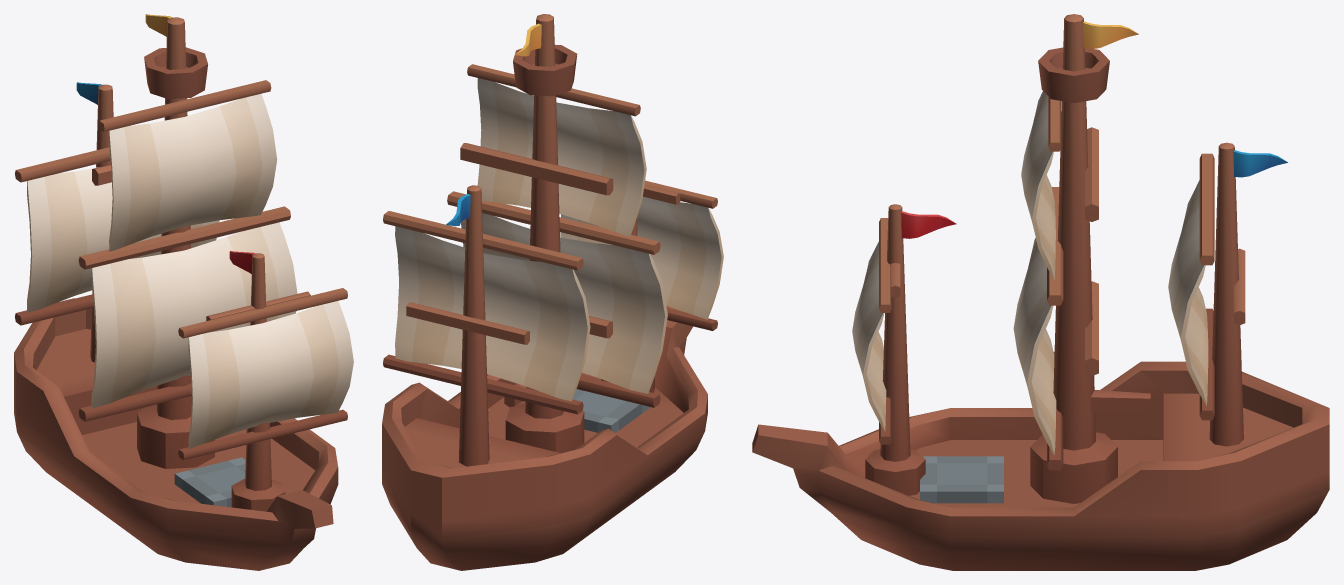
Rendered from ship.glb.
3 renders of one model, left to right at view 1: azimuth 30°, elevation 25°; view 2: azimuth 150°, elevation 25°; view 3: azimuth 270°, elevation 25°, orthographic. The views are drawn at different scales.
Parts seen in each view (by area): view 1: ship; view 2: ship; view 3: ship.
Part boxes in pixels (x1,y1,x2,y2): ship: (14,14,353,570); ship: (382,14,723,570); ship: (752,14,1329,570).
Size of the model in its own units: 1 by 2.24 by 2.26.
1 material, 1 textured.
